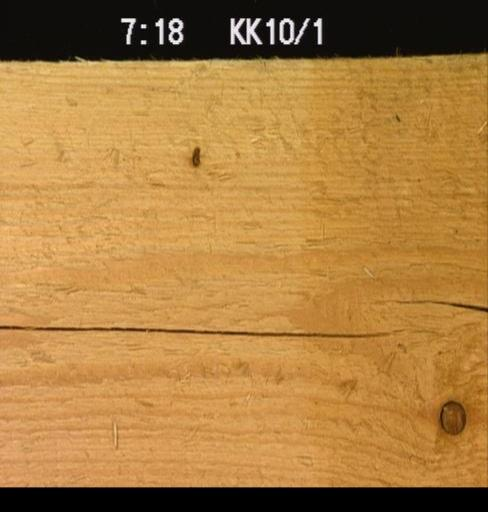dry_knot: (437, 398, 466, 435), (188, 143, 201, 167)
split: (0, 323, 391, 338), (379, 297, 486, 312)
